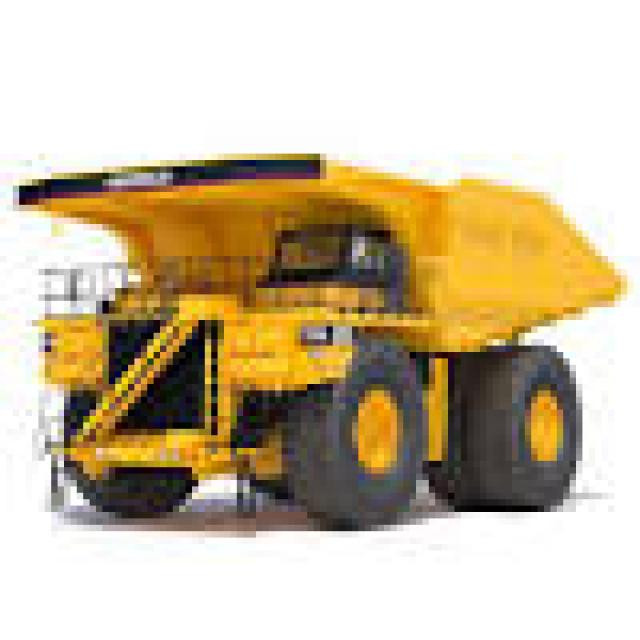dump_truck: (19, 122, 634, 512)
